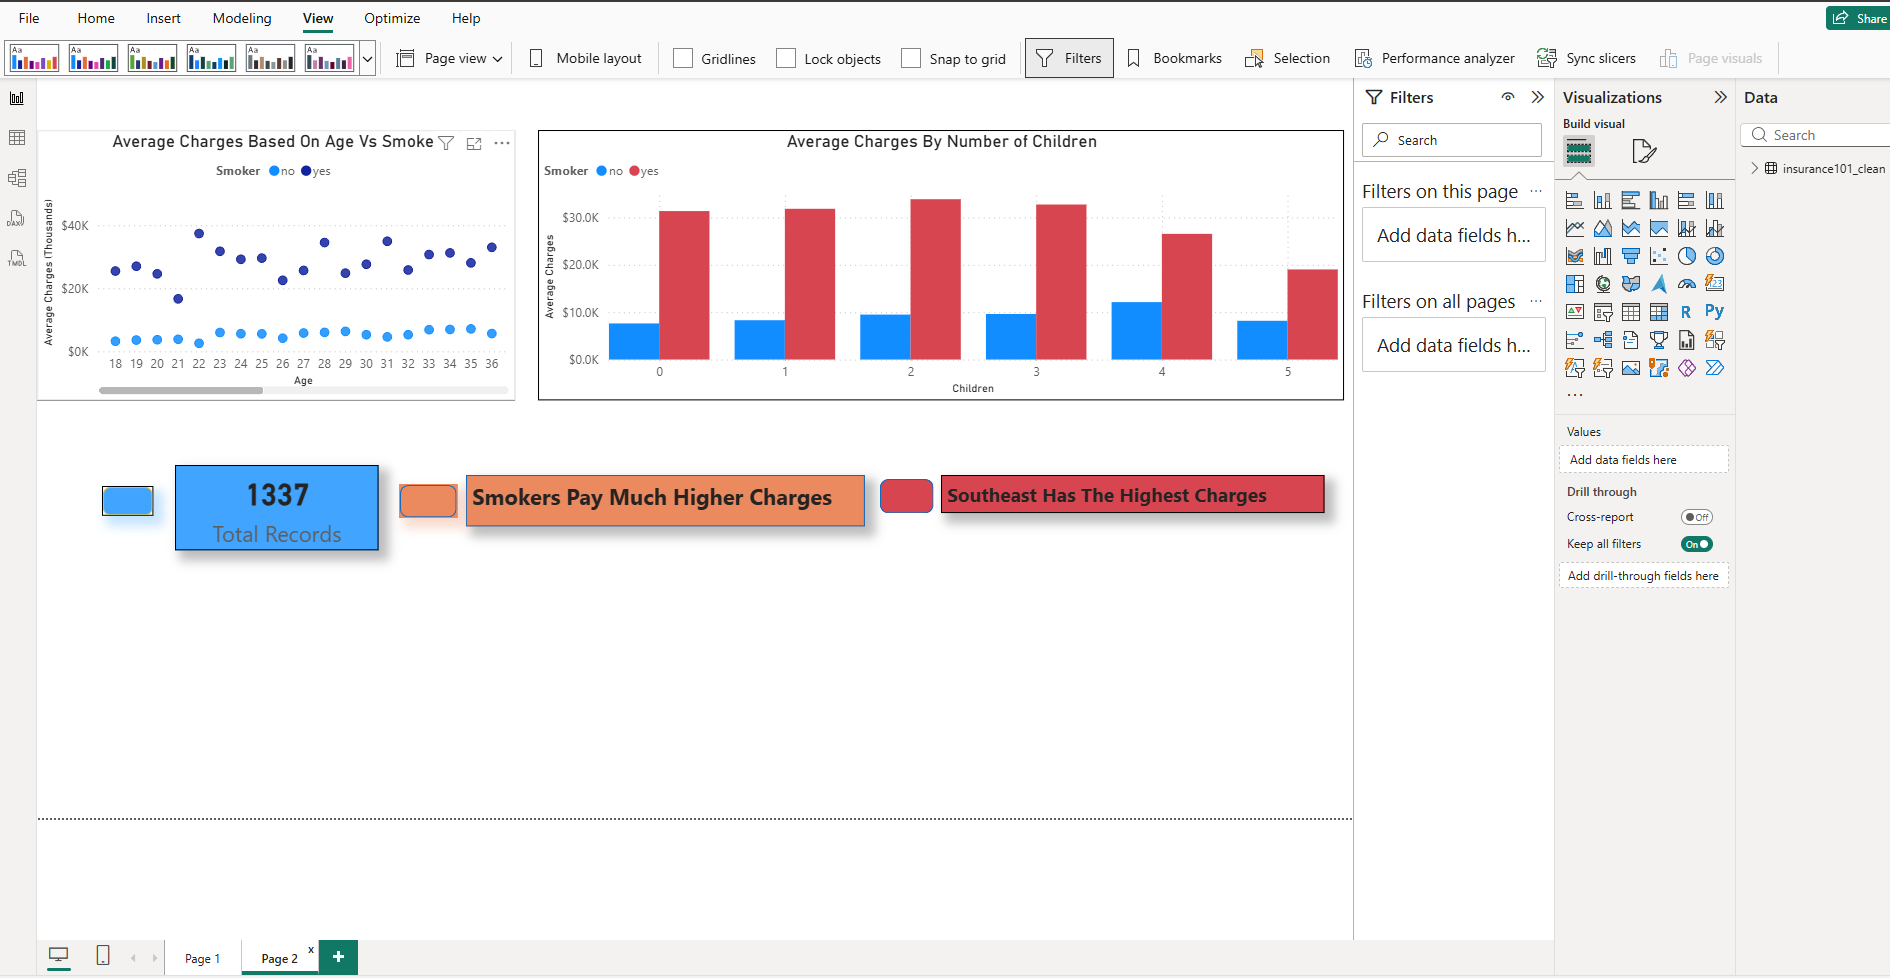

The page's visual inventory and layout, read from the dashboard file:
{"tool":"powerbi","page":{"name":"Page 2","canvas":[1280,720],"ordinal":1},"visuals":[{"type":"scatterChart","title":"Average Charges Based On Age Vs Smoker ","fields":{"X":["insurance101_clean.age"],"Y":["insurance101_clean.Average Charges"],"Series":["insurance101_clean.smoker"]},"box":[0,50.1,464.7,263.3],"z":0},{"type":"clusteredColumnChart","title":"Average Charges By Number of Children","fields":{"Y":["insurance101_clean.Average Charges"],"Category":["insurance101_clean.children"],"Series":["insurance101_clean.Smoker"]},"box":[487.2,50.1,783.9,263.3],"z":1000},{"type":"textbox","box":[417.5,386.1,388,50.1],"z":2000},{"type":"card","fields":{"Values":["insurance101_clean.Total Records"]},"box":[134.6,376.2,198.4,82.5],"z":5000},{"type":"shape","box":[62.9,396.9,50.1,29.5],"z":6000},{"type":"shape","box":[351.7,394.9,57,33.4],"z":7000},{"type":"textbox","box":[879.2,386.1,373.3,37.3],"z":8000},{"type":"shape","box":[820.3,390,52.1,33.4],"z":9000}]}

Visuals, with their boxes on the page's 1280x720 design canvas (x1, y1, x2, y2). These are canvas units, not pixel positions in the 1890x978 screenshot, which may show the page scaled, cropped or inside an application window:
"Average Charges Based On Age Vs Smoker " scatterChart: 0,50,465,313
"Average Charges By Number of Children" clusteredColumnChart: 487,50,1271,313
textbox: 418,386,806,436
card - insurance101_clean.Total Records: 135,376,333,459
shape: 63,397,113,426
shape: 352,395,409,428
textbox: 879,386,1252,423
shape: 820,390,872,423
